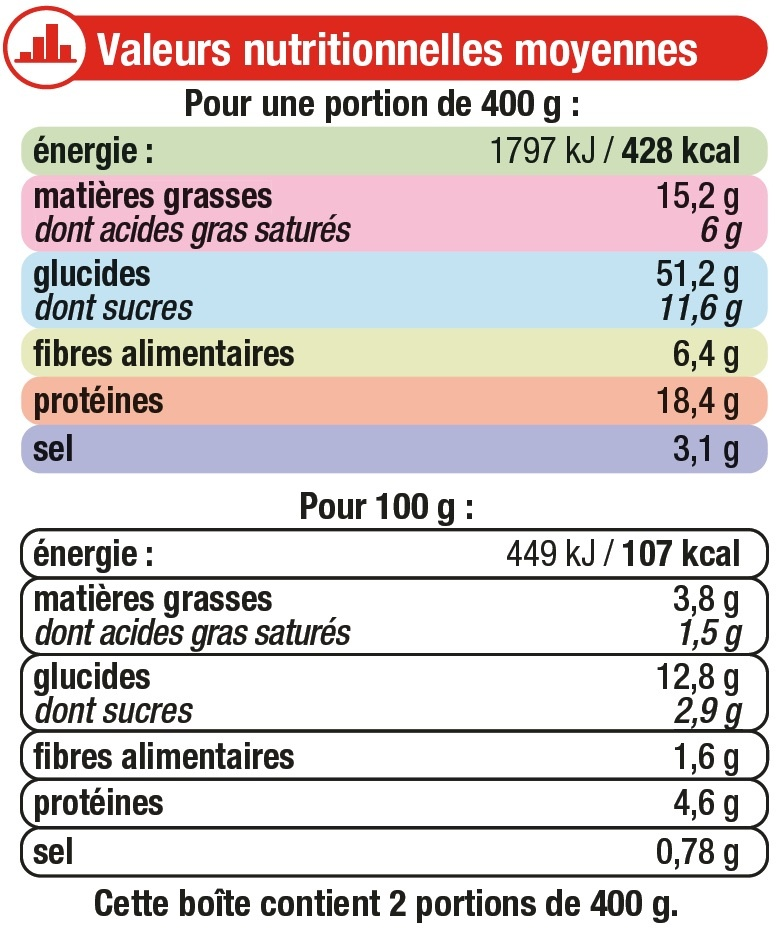column: (31, 133, 349, 466), (31, 540, 351, 869), (489, 129, 743, 472), (510, 537, 744, 867)
table: (24, 80, 767, 474), (21, 490, 769, 876)
